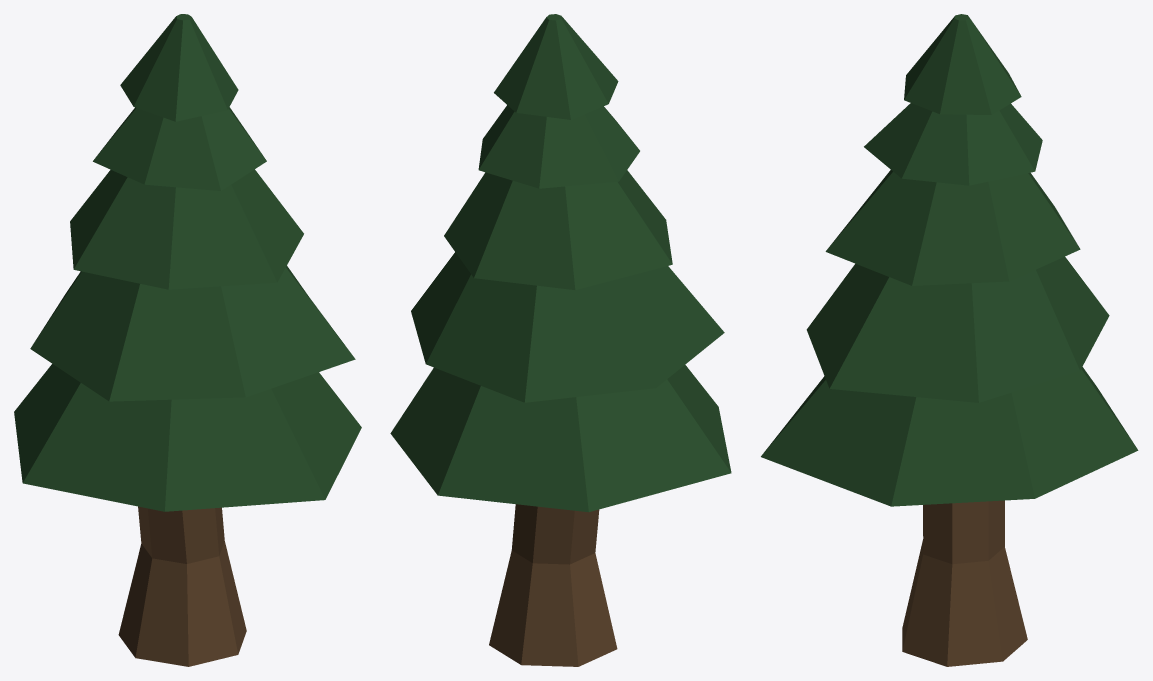
File: Tree.fbx
3 renders of one model, left to right at view 1: azimuth 30°, elevation 25°; view 2: azimuth 150°, elevation 25°; view 3: azimuth 270°, elevation 25°, orthographic.
Visible parts, largest first — view 1: Cylinder.001; view 2: Cylinder.001; view 3: Cylinder.001.
Part boxes in pixels (x1=…): Cylinder.001: x1=14, y1=14, x2=361, y2=666; Cylinder.001: x1=390, y1=14, x2=731, y2=666; Cylinder.001: x1=761, y1=14, x2=1138, y2=666.
Bounding box in the file's own units: 319 × 608 × 334.
